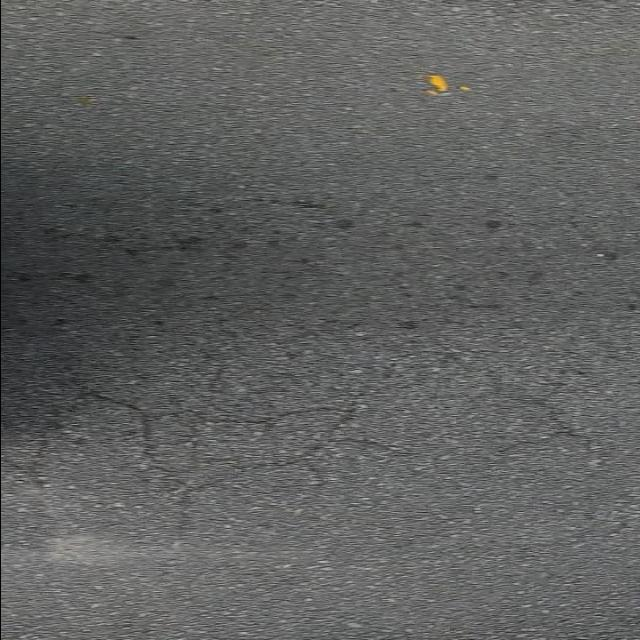cracks: (33, 360, 477, 527)
